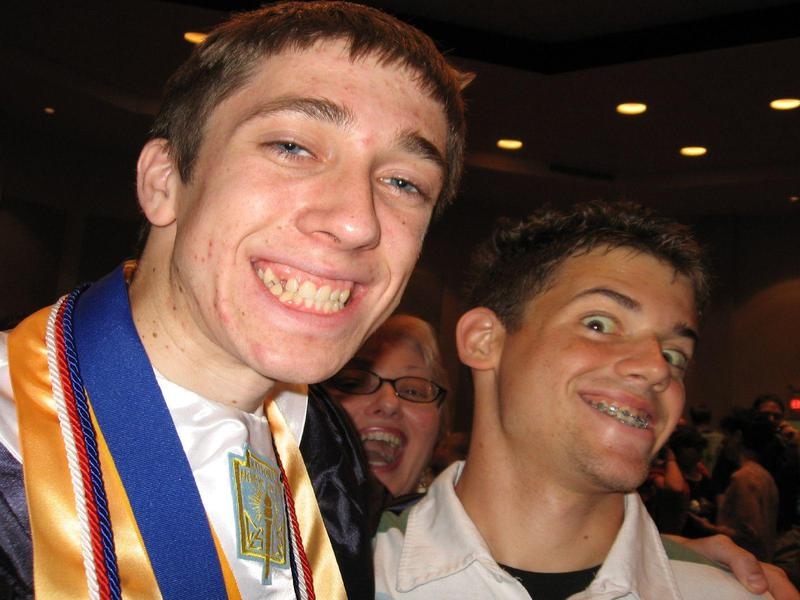person: (5, 4, 470, 600), (438, 217, 775, 600), (341, 312, 464, 497)
